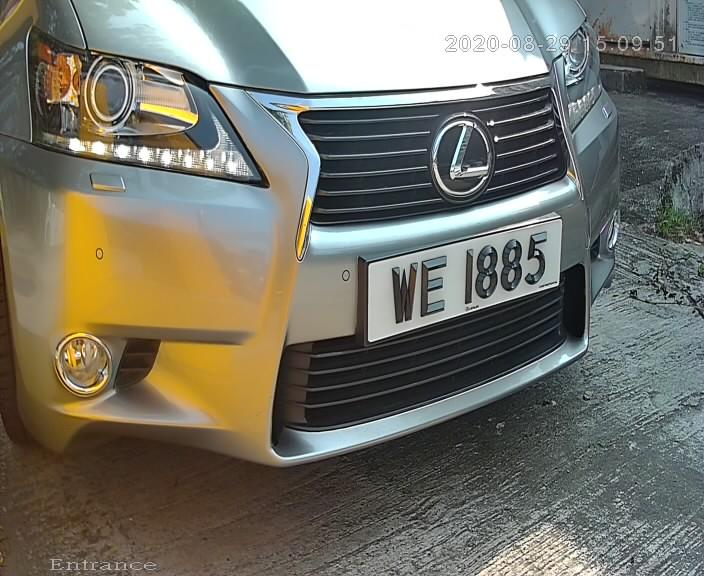Car: (16, 3, 657, 505)
License Plate: (342, 209, 576, 364)
